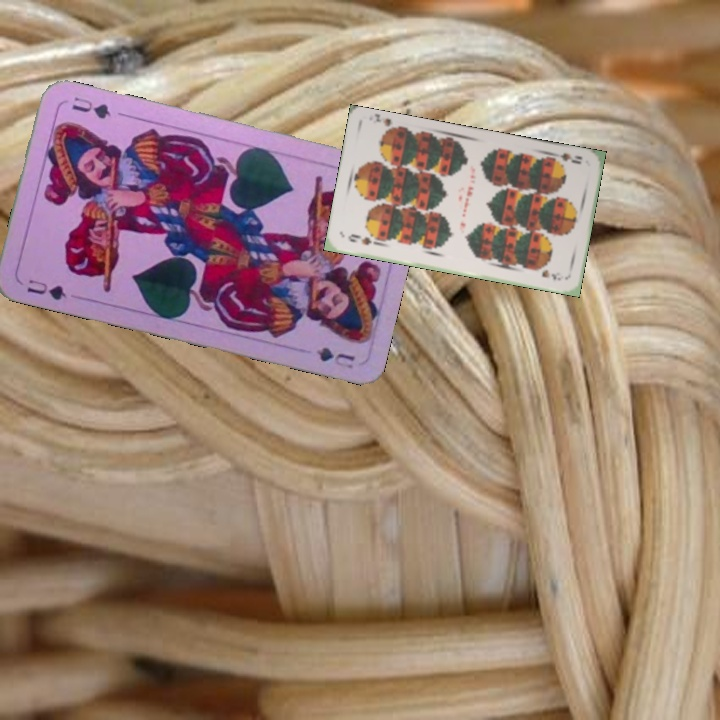GU: (22, 275, 70, 303)
S9: (547, 149, 585, 167), (344, 230, 382, 248)
